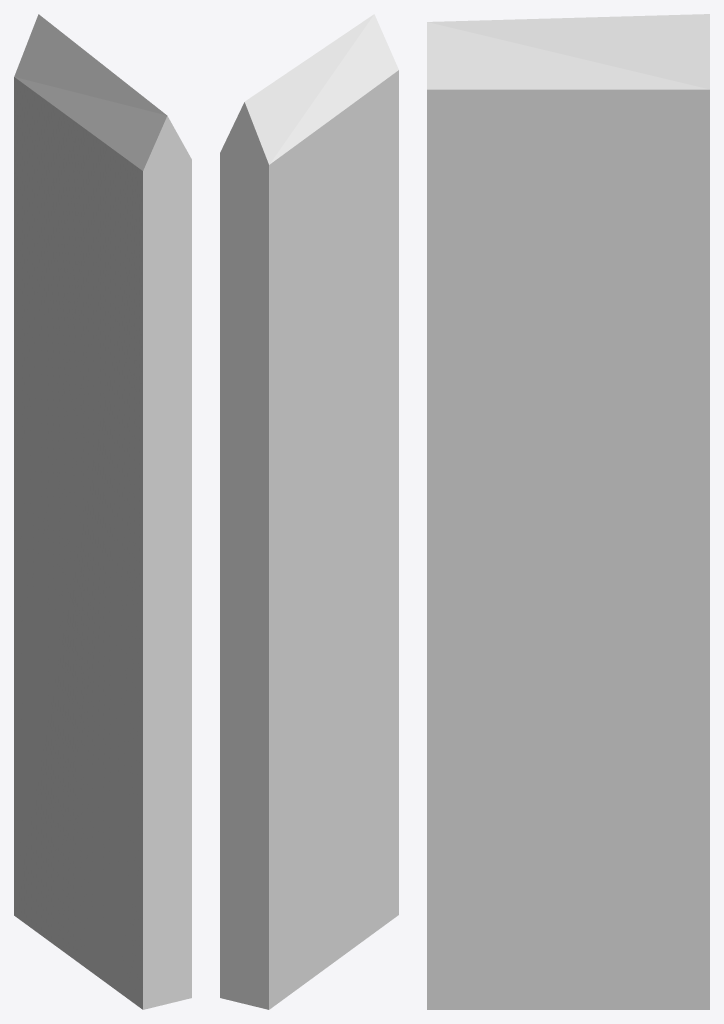
Rendered from BackWingCenter.obj.
3 renders of one model, left to right at view 1: azimuth 30°, elevation 25°; view 2: azimuth 150°, elevation 25°; view 3: azimuth 270°, elevation 25°, orthographic. The views are drawn at different scales.
Visible parts, largest first — view 1: 立方体.002; view 2: 立方体.002; view 3: 立方体.002.
Part boxes in pixels (bbox=[...]): 立方体.002: bbox=[14, 14, 191, 1009]; 立方体.002: bbox=[220, 14, 398, 1009]; 立方体.002: bbox=[427, 14, 709, 1009].
Bounding box in the file's own units: 0.0483 × 0.8485 × 0.2213.
1 material, 1 textured.
